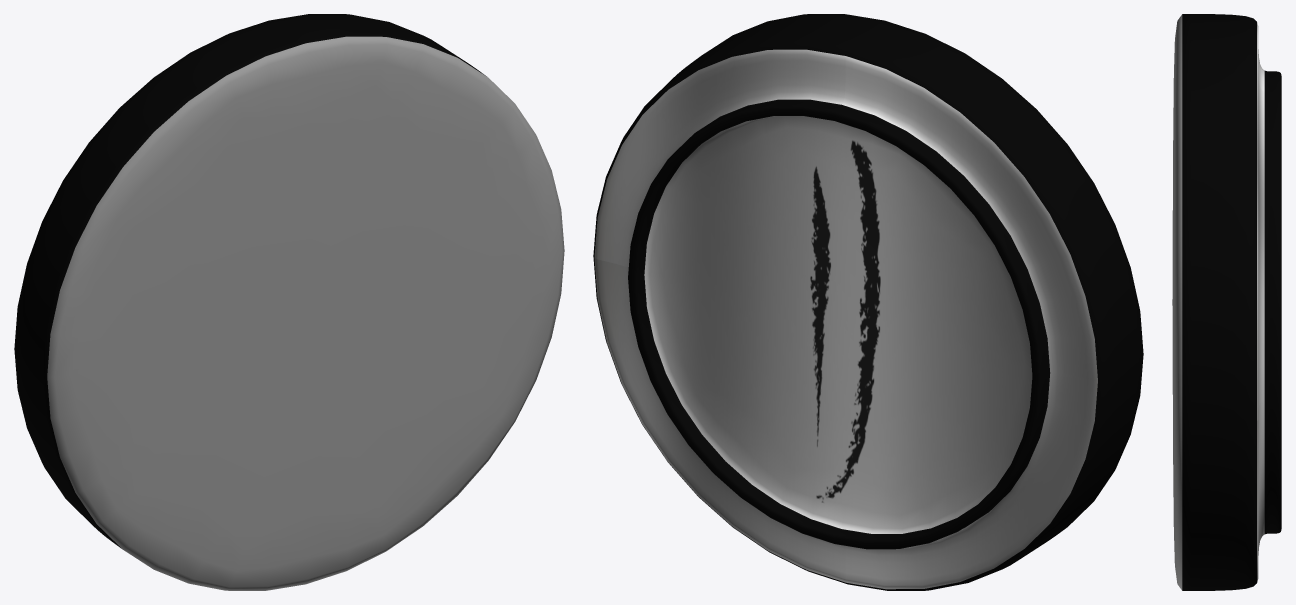
3 views of the same model, side by side, from view 1: azimuth 30°, elevation 25°; view 2: azimuth 150°, elevation 25°; view 3: azimuth 270°, elevation 25° (orthographic). The views are drawn at different scales.
Parts seen in each view (by area): view 1: buton6; view 2: buton6; view 3: buton6.
Boxes of the visible parts, left/top/right/bottom form: buton6: left=14, top=14, right=564, bottom=590; buton6: left=593, top=14, right=1143, bottom=590; buton6: left=1172, top=14, right=1281, bottom=590.
Size of the model in its own units: 4.98 by 4.98 by 0.9398.
Materials: 4 (1 with a texture image).
